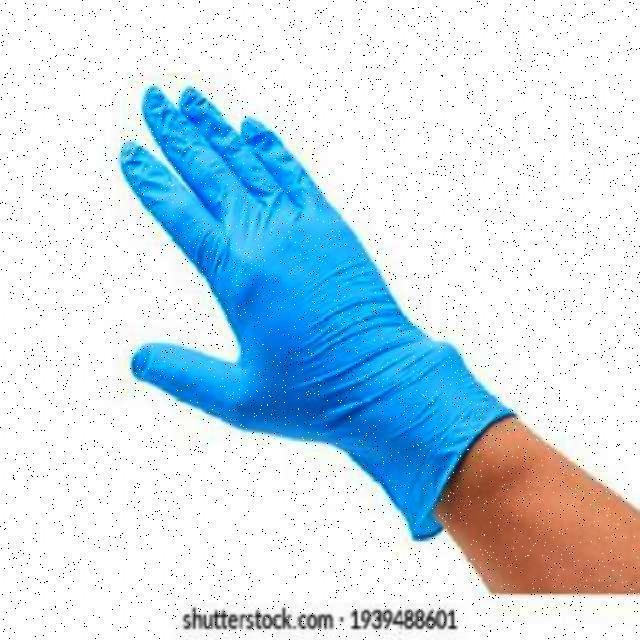Guantes: (118, 82, 517, 542)
